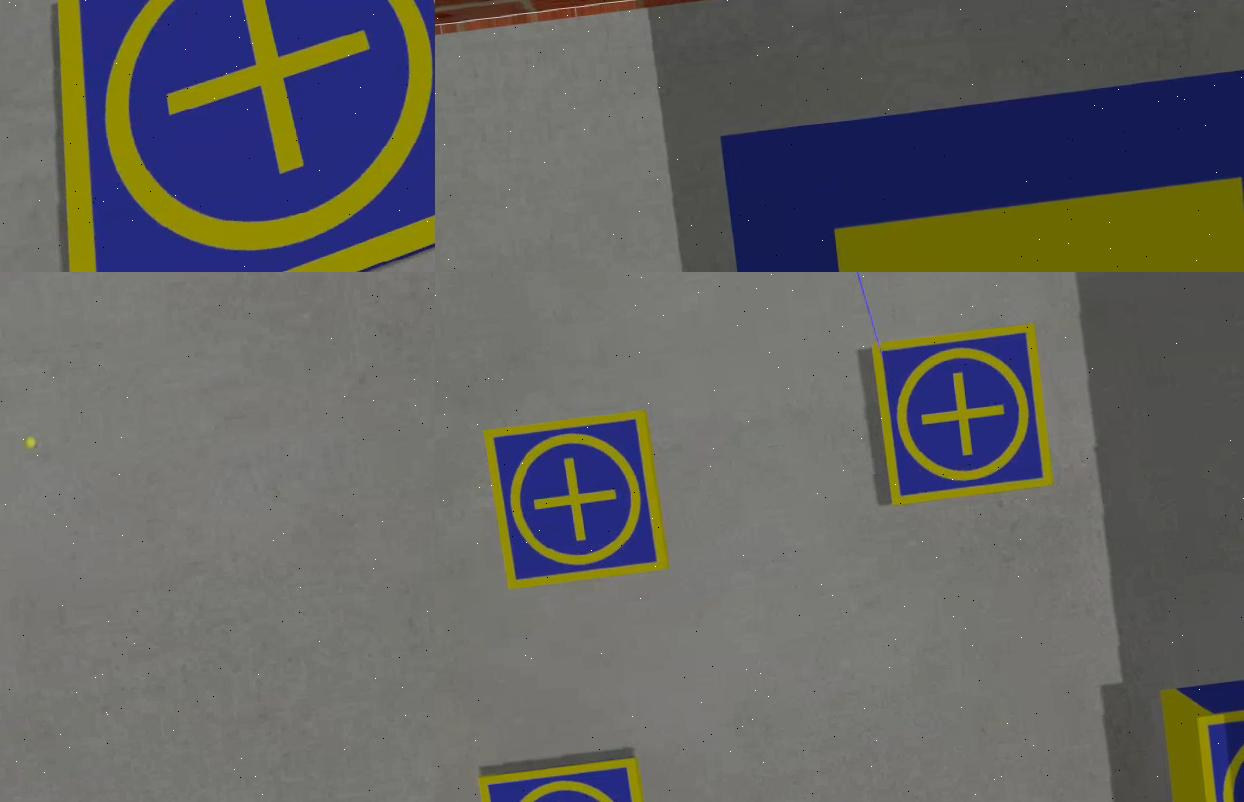large_base: (716, 61, 1244, 273)
small_base: (20, 1, 436, 273), (485, 406, 673, 593), (869, 323, 1060, 507), (476, 754, 657, 802)
